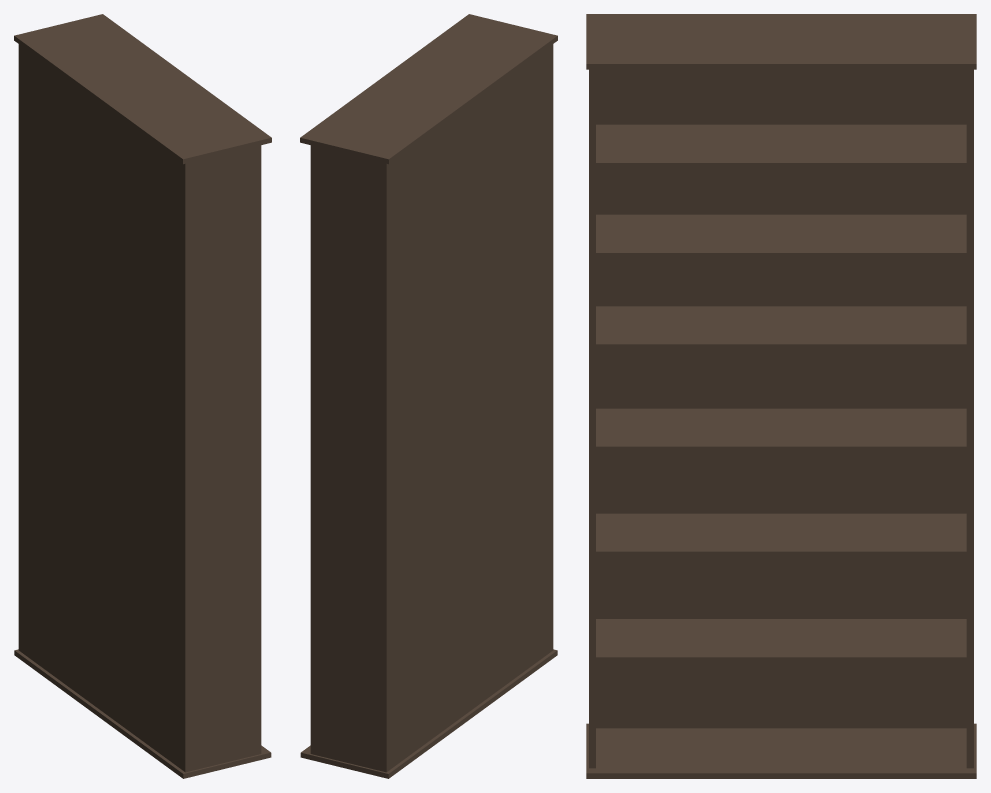
Rendered from bookshelf_empty_1.fbx.
3 views of the same model, side by side, from view 1: azimuth 30°, elevation 25°; view 2: azimuth 150°, elevation 25°; view 3: azimuth 270°, elevation 25° (orthographic). The views are drawn at different scales.
Parts seen in each view (by area): view 1: pCube4, pCube5, pCube6; view 2: pCube4, pCube5, pCube6; view 3: pCube4, pCube5, pCube6, pCube11, pCube12, pCube13, pCube14, pCube15, pCube7.
Part boxes in pixels (x1=…): pCube4: x1=18, y1=44, x2=261, y2=772; pCube5: x1=14, y1=14, x2=271, y2=164; pCube6: x1=14, y1=649, x2=271, y2=778; pCube4: x1=310, y1=44, x2=553, y2=772; pCube5: x1=300, y1=14, x2=557, y2=164; pCube6: x1=300, y1=649, x2=557, y2=778; pCube4: x1=589, y1=69, x2=973, y2=768; pCube5: x1=586, y1=14, x2=976, y2=69; pCube6: x1=586, y1=723, x2=976, y2=778; pCube11: x1=596, y1=513, x2=966, y2=557; pCube12: x1=596, y1=408, x2=966, y2=452; pCube13: x1=596, y1=306, x2=966, y2=350; pCube14: x1=596, y1=214, x2=966, y2=258; pCube15: x1=596, y1=124, x2=966, y2=168; pCube7: x1=596, y1=619, x2=966, y2=662.
Bounding box in the file's own units: 171 × 1138 × 562.
